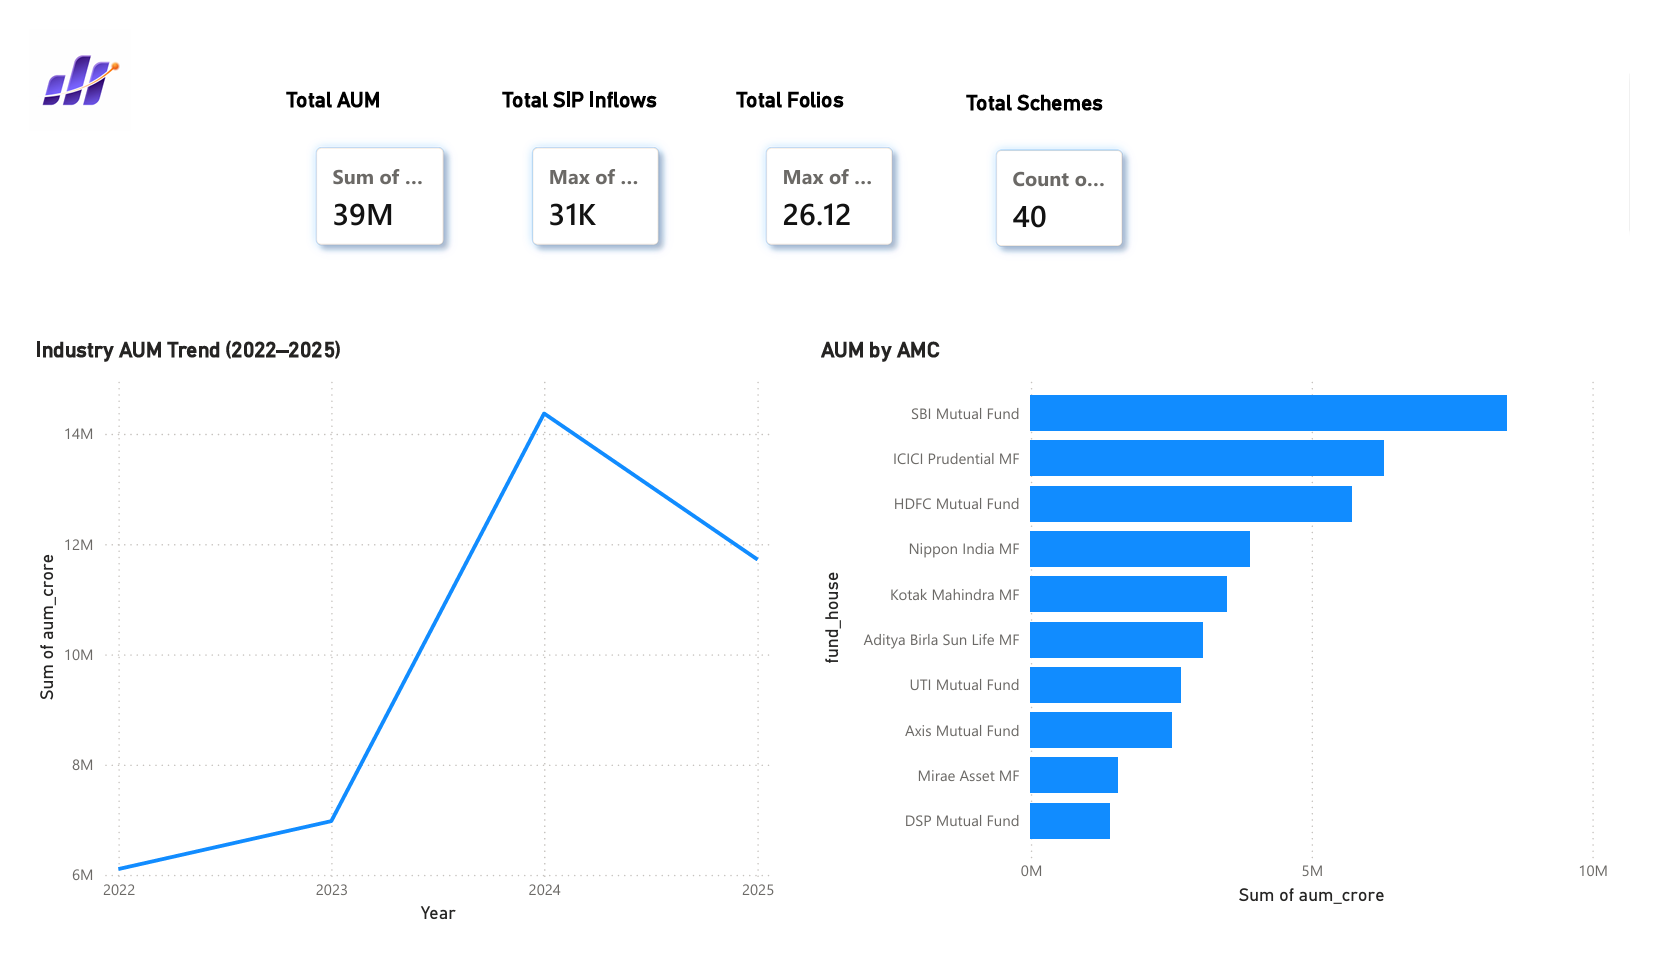

What the dashboard file says about the page in this screenshot:
{"tool":"powerbi","page":{"name":"Industry Overview","canvas":[1280,720],"ordinal":0},"visuals":[{"type":"cardVisual","title":"Total AUM","fields":{"Data":["Sum(aum_by_fund_house_cleaned.aum_crore)"]},"box":[200.3,41.2,159.2,160.5],"z":0},{"type":"cardVisual","title":"Total SIP Inflows","fields":{"Data":["Max(monthly_sip_inflows_cleaned.sip_inflow_crore)"]},"box":[373.2,41.2,159.2,160.5],"z":1000},{"type":"cardVisual","title":"Total Folios","fields":{"Data":["Max(industry_folio_count_cleaned.total_folios_crore)"]},"box":[559.9,41.2,159.2,160.5],"z":2000},{"type":"cardVisual","title":"Total Schemes","fields":{"Data":["Count(fund_master_cleaned.amfi_code)"]},"box":[743.7,42.5,159.2,160.5],"z":3000},{"type":"lineChart","title":"Industry AUM Trend (2022–2025)","fields":{"Category":["aum_by_fund_house_cleaned.date.Variation.Date Hierarchy.Year","aum_by_fund_house_cleaned.date.Variation.Date Hierarchy.Quarter","aum_by_fund_house_cleaned.date.Variation.Date Hierarchy.Month","aum_by_fund_house_cleaned.date.Variation.Date Hierarchy.Day"],"Y":["Sum(aum_by_fund_house_cleaned.aum_crore)"]},"box":[0,245.6,599.7,474.8],"z":4000},{"type":"clusteredBarChart","title":"AUM by AMC","fields":{"Category":["aum_by_fund_house_cleaned.fund_house"],"Y":["Sum(aum_by_fund_house_cleaned.aum_crore)"]},"box":[628.5,245.6,638.1,459.7],"z":5000},{"type":"image","box":[0,0,81,81],"z":6000}]}

Visuals, with their boxes in screenshot pixels (x1, y1, x2, y2), scaled from the page's 1280x720 canvas onto the 1657x957 screenshot:
"Total AUM" cardVisual: 259,55,465,268
"Total SIP Inflows" cardVisual: 483,55,689,268
"Total Folios" cardVisual: 725,55,931,268
"Total Schemes" cardVisual: 963,56,1169,270
"Industry AUM Trend (2022–2025)" lineChart: 0,326,776,956
"AUM by AMC" clusteredBarChart: 814,326,1640,937
image: 0,0,105,108
